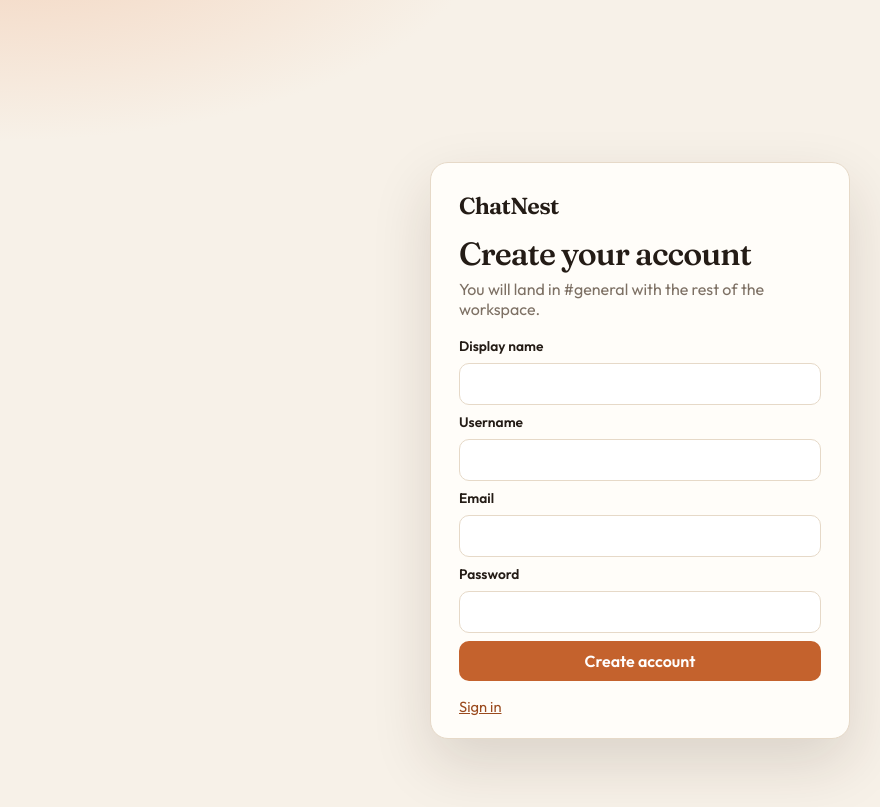
Test: stops a short password before calling the api
Type "Alice" into the field labelled "Display name" at [640, 384], box [459,362,821,404]
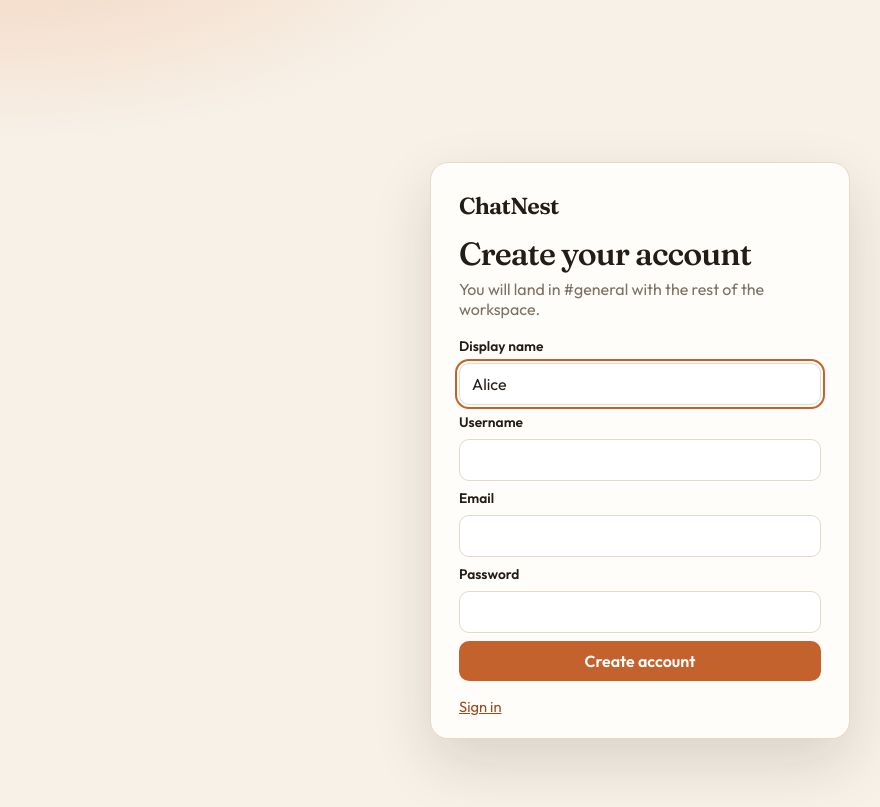
Type "alice" into the field labelled "Username" at [640, 460], box [459,438,821,480]
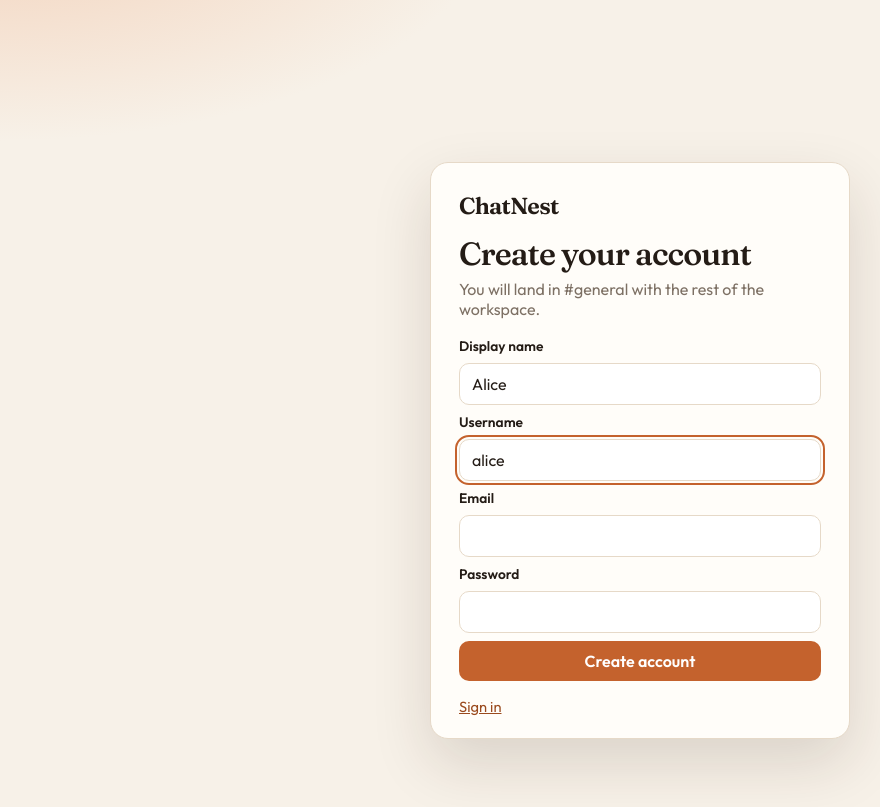
Type "alice@example.com" into the field labelled "Email" at [640, 536], box [459,514,821,556]
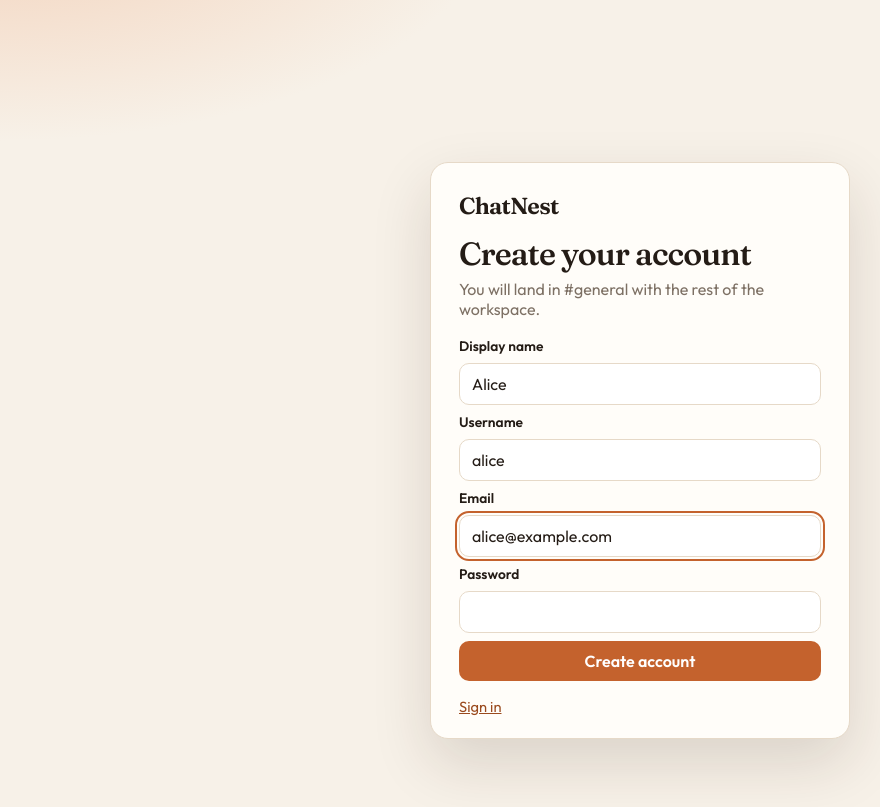
Type "short" into the password field labelled "Password" at [640, 612], box [459,590,821,632]
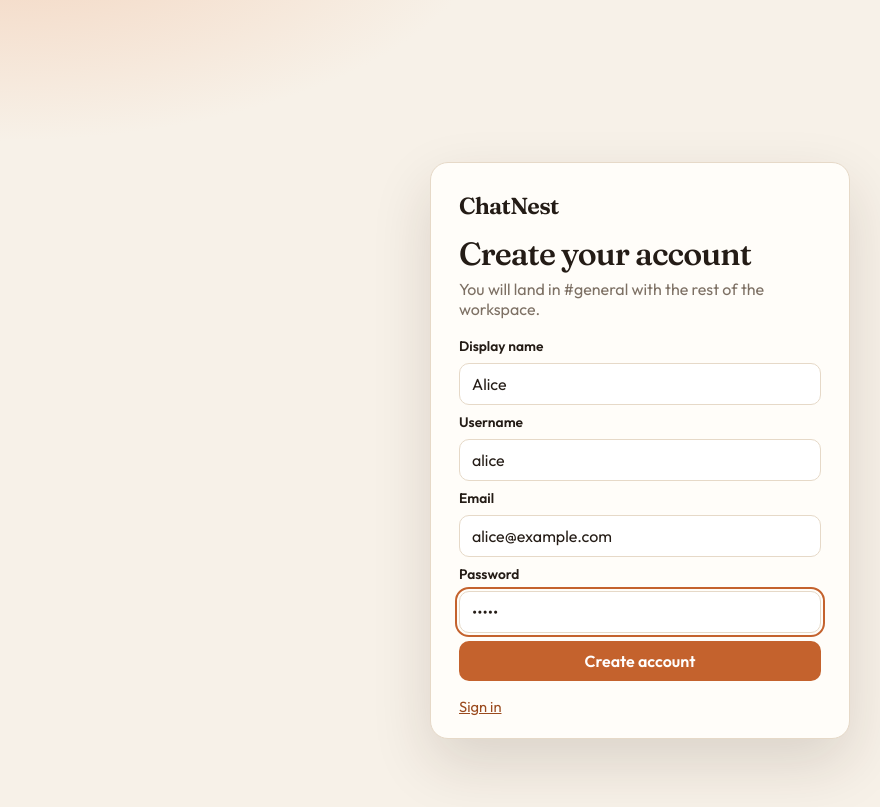
Click the button "Create account" at [640, 660], box [459,640,821,680]
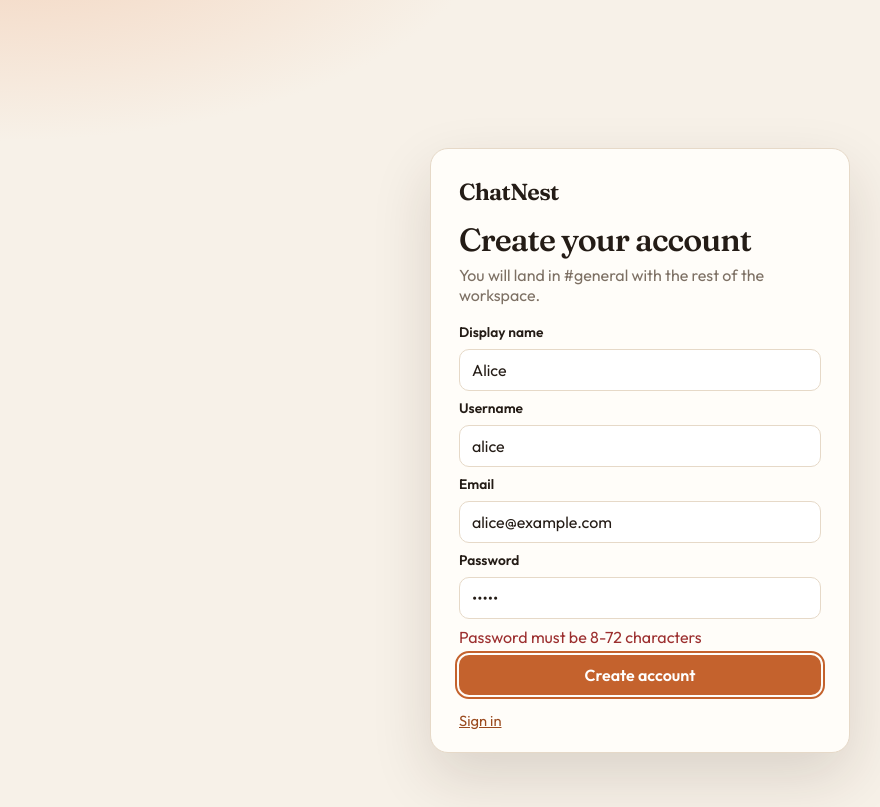
expect the message shows "8-72": met, box [459,626,702,646]
